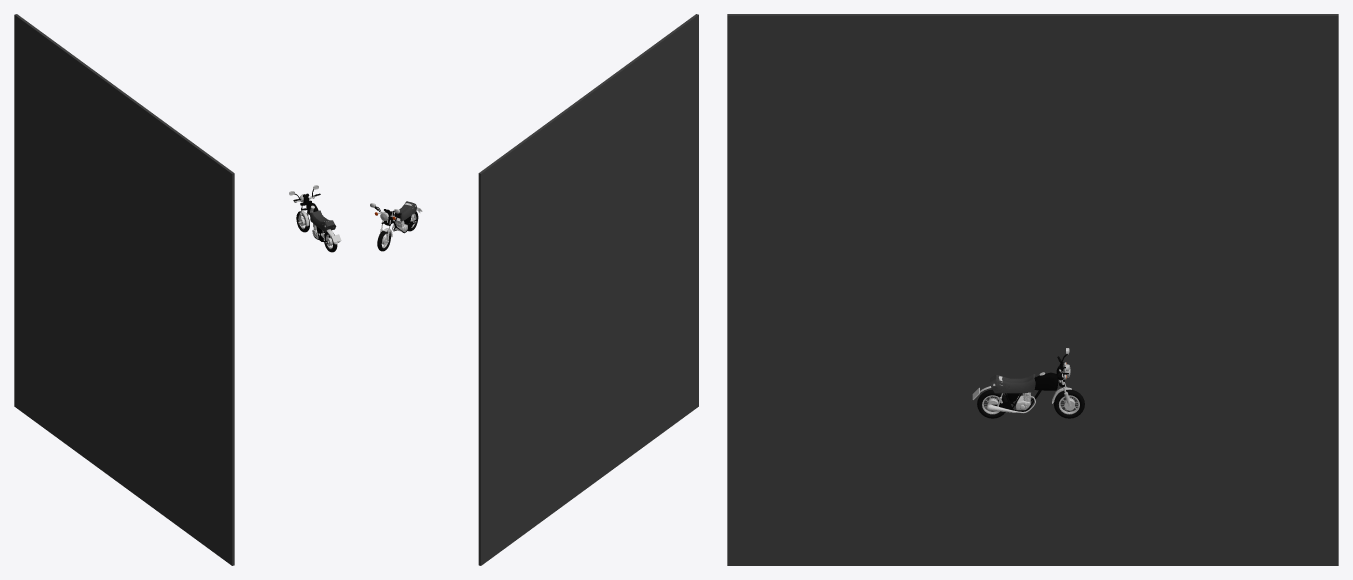
Rendered from bike.fbx.
3 renders of one model, left to right at view 1: azimuth 30°, elevation 25°; view 2: azimuth 150°, elevation 25°; view 3: azimuth 270°, elevation 25°, orthographic. The views are drawn at different scales.
Parts seen in each view (by area): view 1: Box061; view 2: Box061; view 3: Box061, サドル001.
Boxes of the visible parts, <box> form: Box061: <box>14,14,234,565</box>; Box061: <box>478,14,698,565</box>; Box061: <box>727,14,1338,565</box>; サドル001: <box>990,374,1035,393</box>.
Size of the model in its own units: 464 by 838 by 844.
